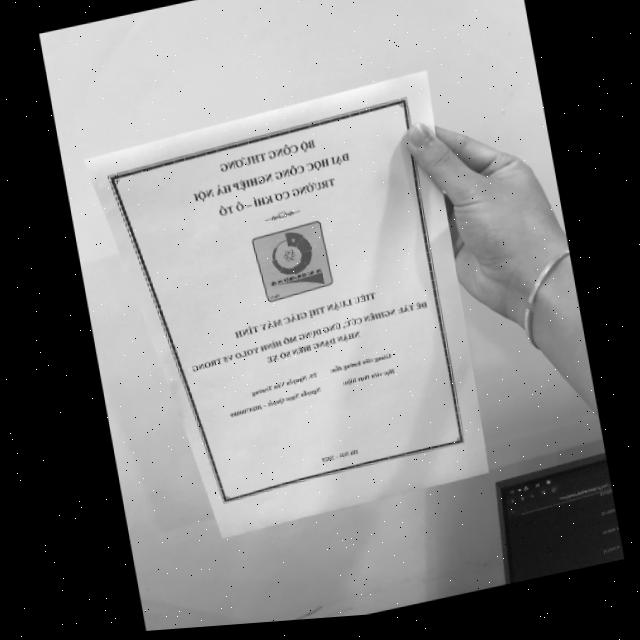document: (83, 69, 489, 539)
